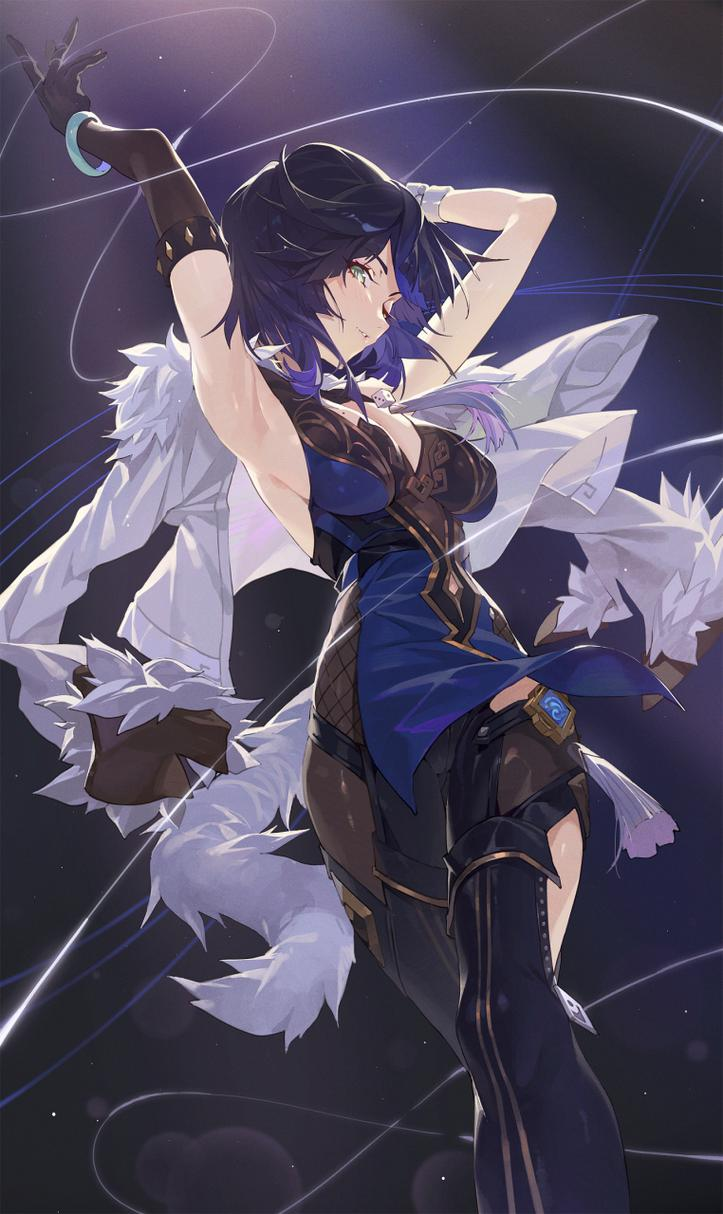夜兰: (5, 12, 631, 1214)
